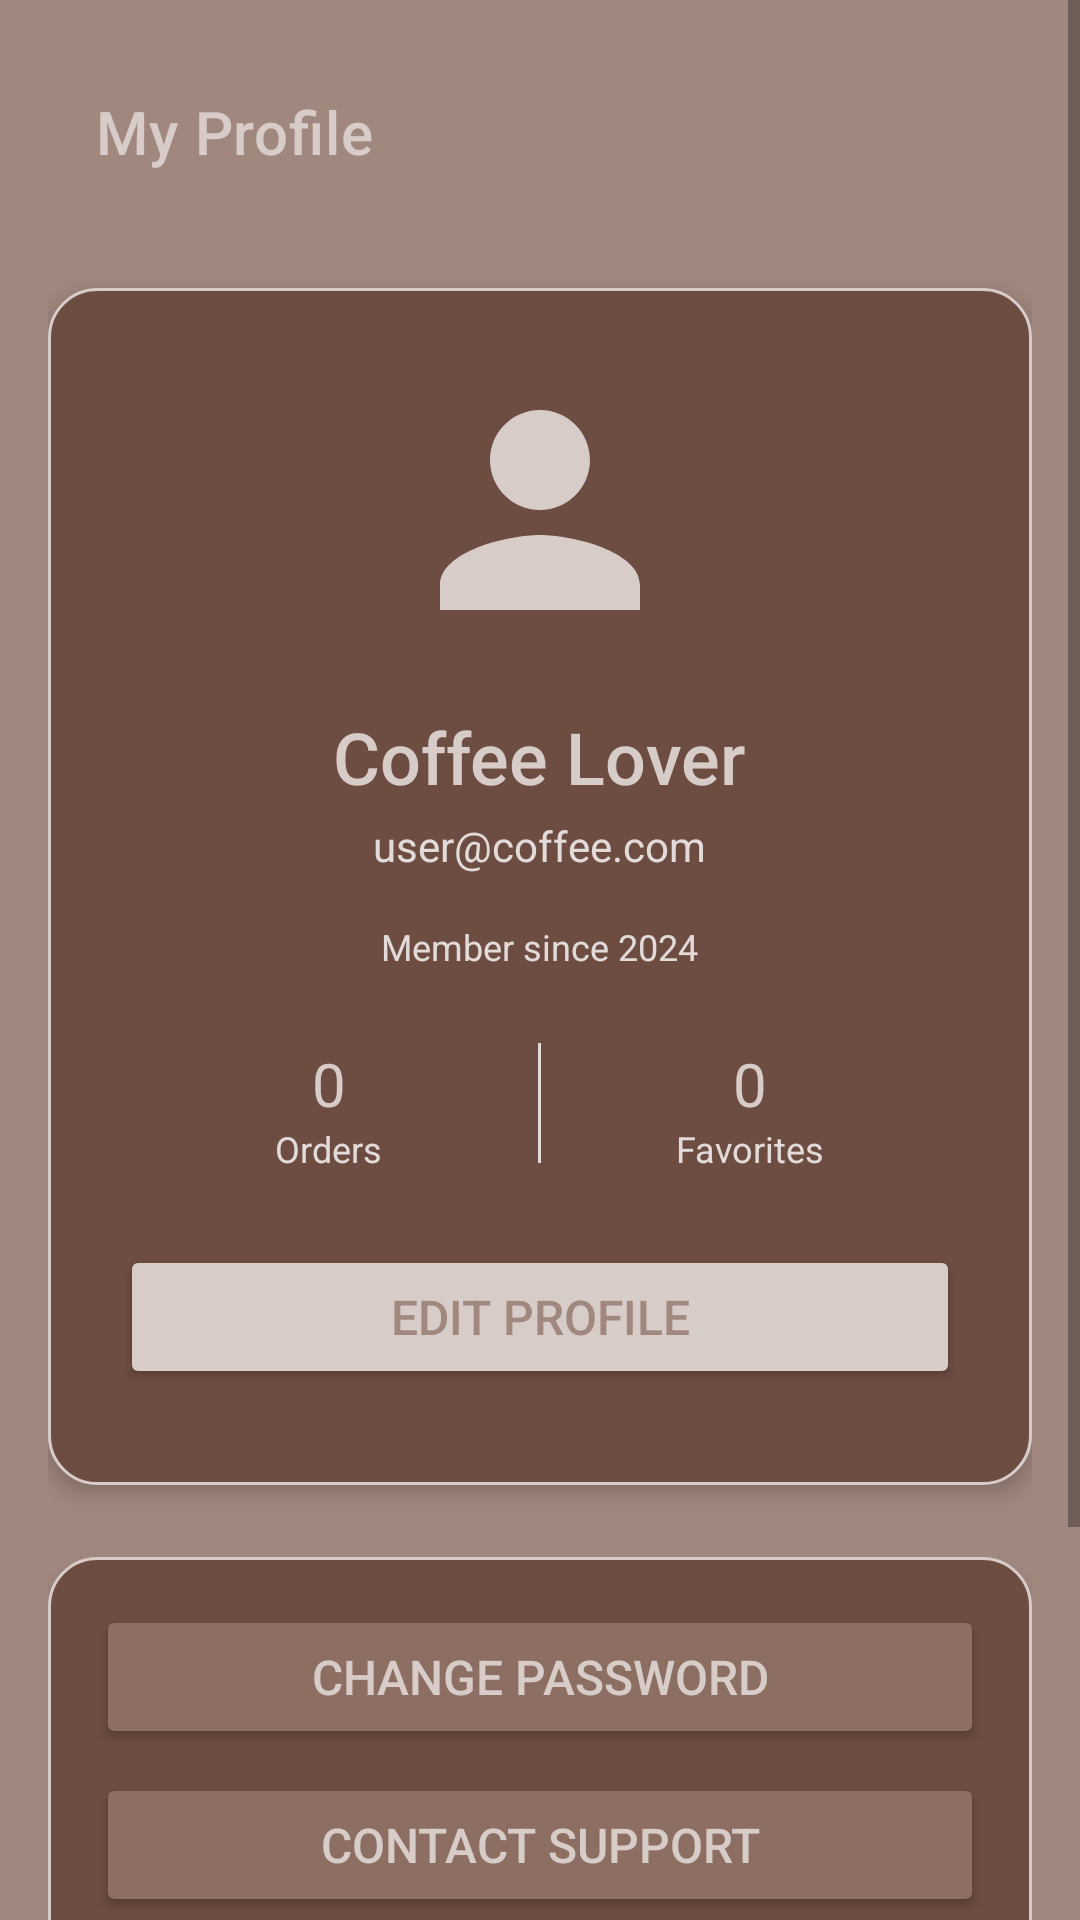

Named icons in this screenshot (1080px×1920px) and their centers, (x,y):
Profile: (540,510)
